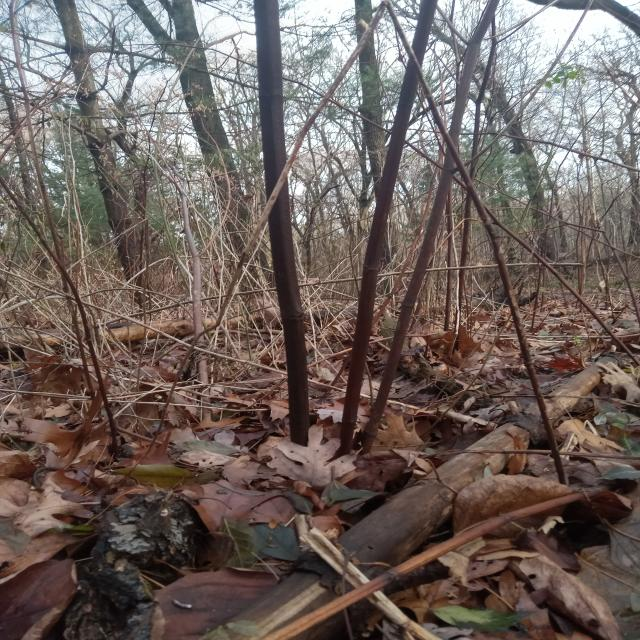knotweed-stems: (251, 1, 385, 430), (257, 485, 604, 639), (332, 0, 439, 458), (252, 1, 312, 447)
tree trunks: (52, 0, 153, 323)
